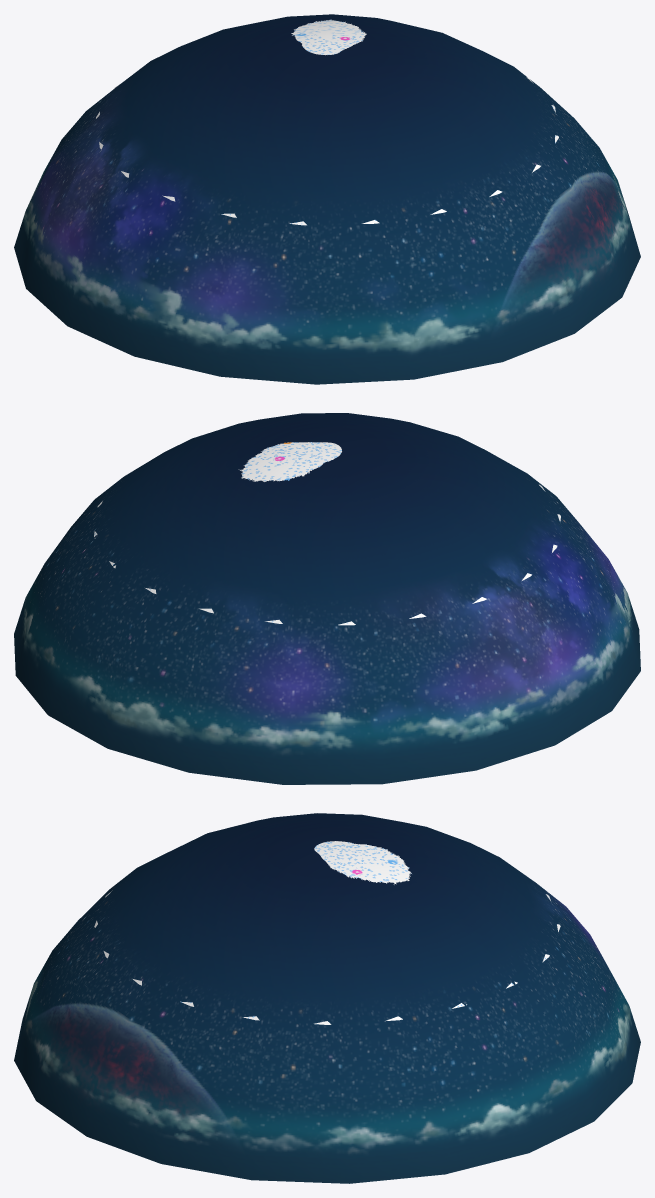
File: sb_obj_sky_SF_Night.fbx
The picture shows the model from 3 angles, top to bottom: view 1: azimuth 30°, elevation 25°; view 2: azimuth 150°, elevation 25°; view 3: azimuth 270°, elevation 25°; orthographic projection.
Visible parts, largest first — view 1: sky, sky.001; view 2: sky, sky.001; view 3: sky, sky.001.
Part boxes in pixels (x1,y1,x2,y2): sky: (14,14,640,384); sky.001: (96,19,558,225); sky: (14,413,640,784); sky.001: (94,442,560,625); sky: (14,813,640,1183); sky.001: (94,841,560,1024).
Bounding box in the file's own units: 985 × 356 × 985.
